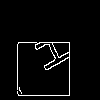H: (25, 25, 76, 79)
